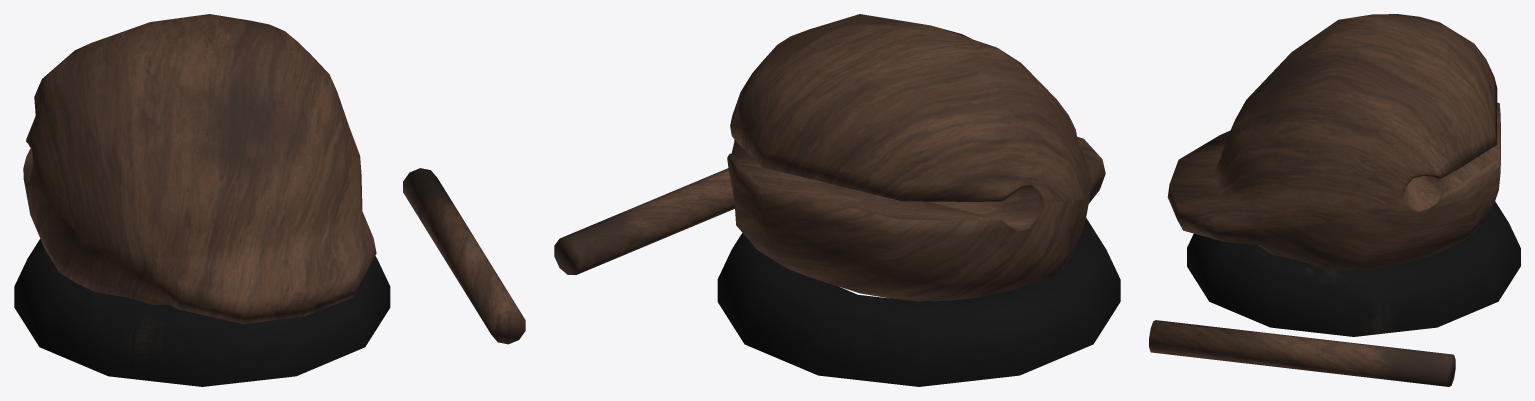
The model's file is Instruments_02.fbx.
3 renders of one model, left to right at view 1: azimuth 30°, elevation 25°; view 2: azimuth 150°, elevation 25°; view 3: azimuth 270°, elevation 25°, orthographic. The views are drawn at different scales.
Parts seen in each view (by area): view 1: Instruments_02; view 2: Instruments_02; view 3: Instruments_02.
Boxes of the visible parts, bbox=[...] form: Instruments_02: bbox=[14, 14, 525, 386]; Instruments_02: bbox=[554, 14, 1120, 386]; Instruments_02: bbox=[1149, 14, 1520, 386].
Size of the model in its own units: 31.13 by 17.19 by 25.05.
Materials: 1 (1 with a texture image).
